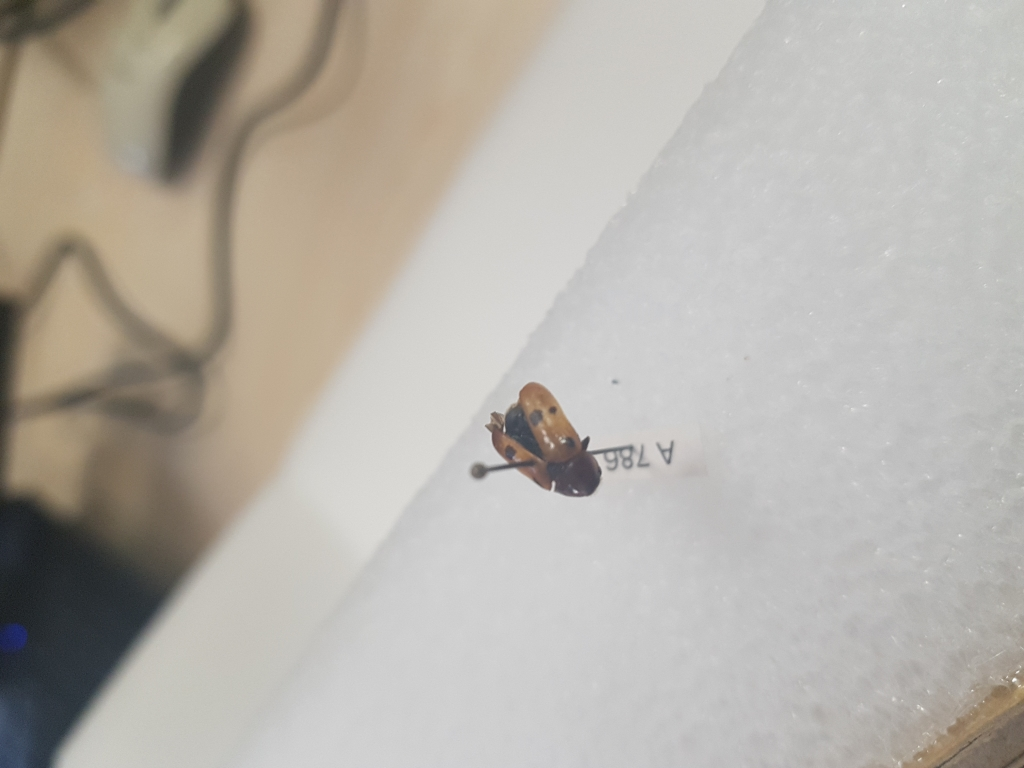Clytra_novempunctata: (483, 380, 608, 501)
